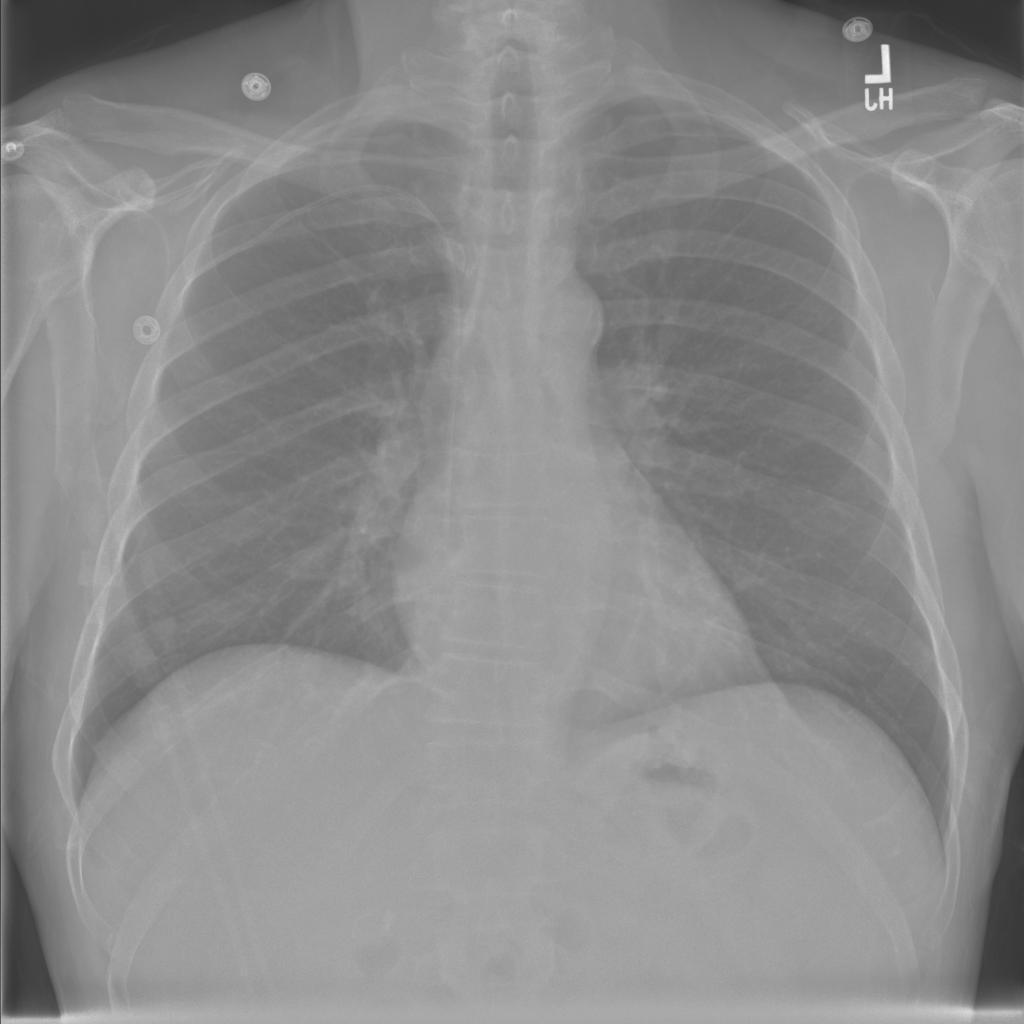Nodule: (72, 186, 126, 226)
